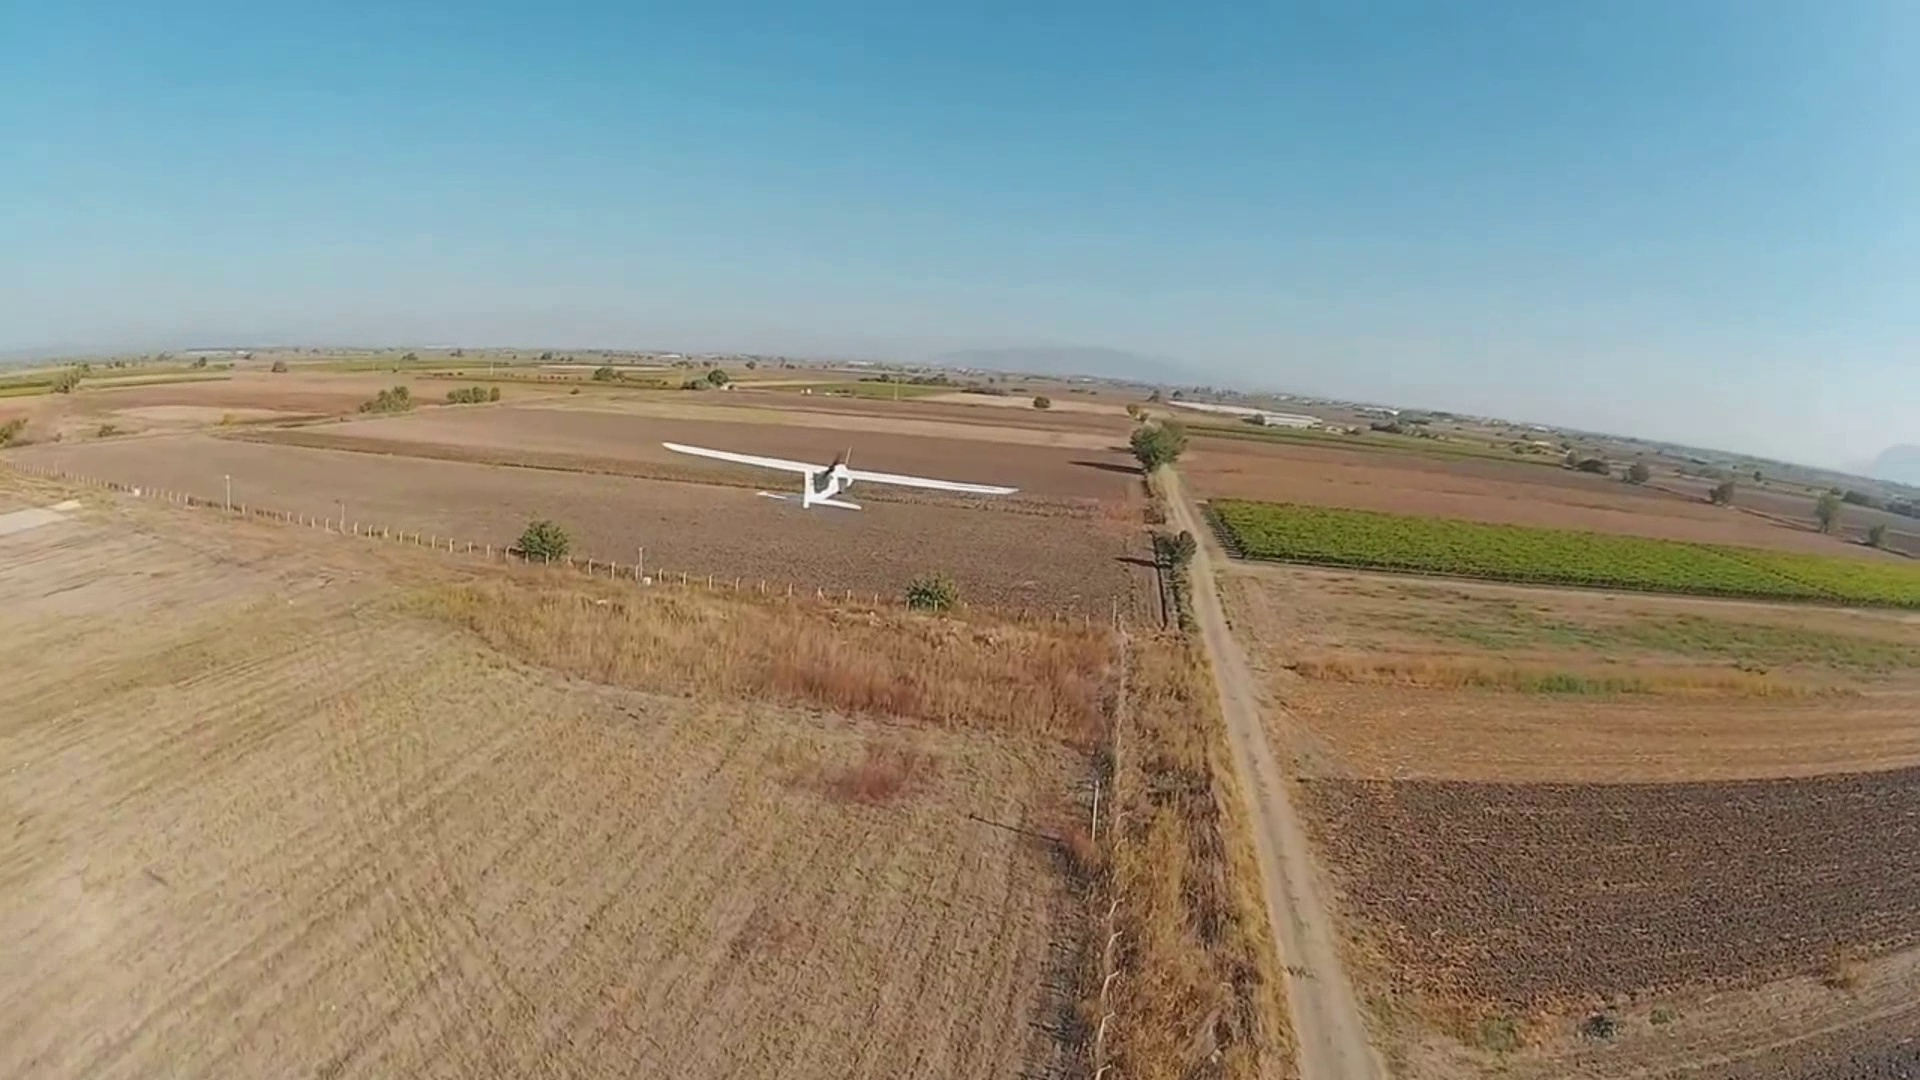airplane: (659, 435, 1021, 512), (659, 440, 858, 509)
